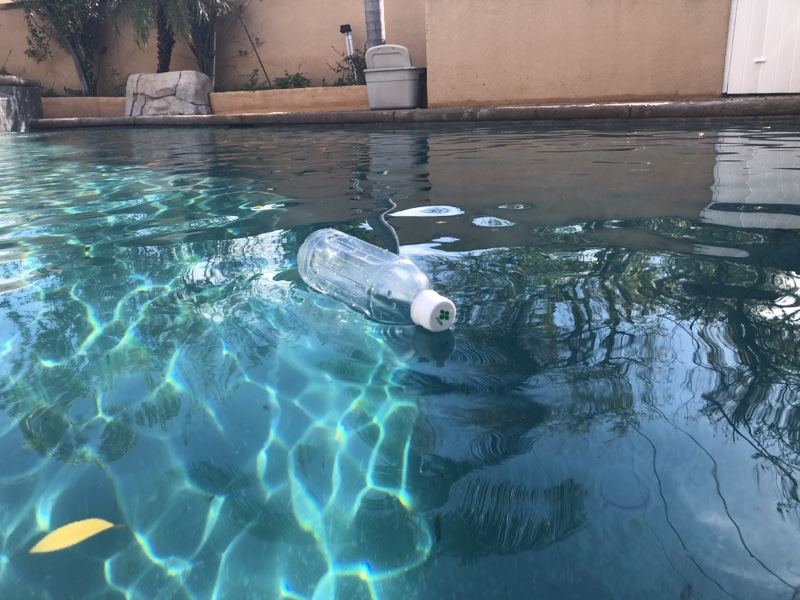Plastic Bottle: (291, 225, 458, 336)
